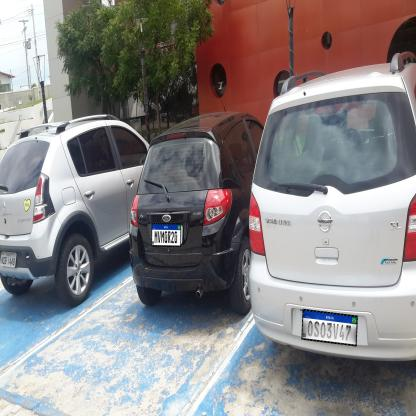PlacaM: (301, 309, 358, 346), (151, 223, 181, 247)
